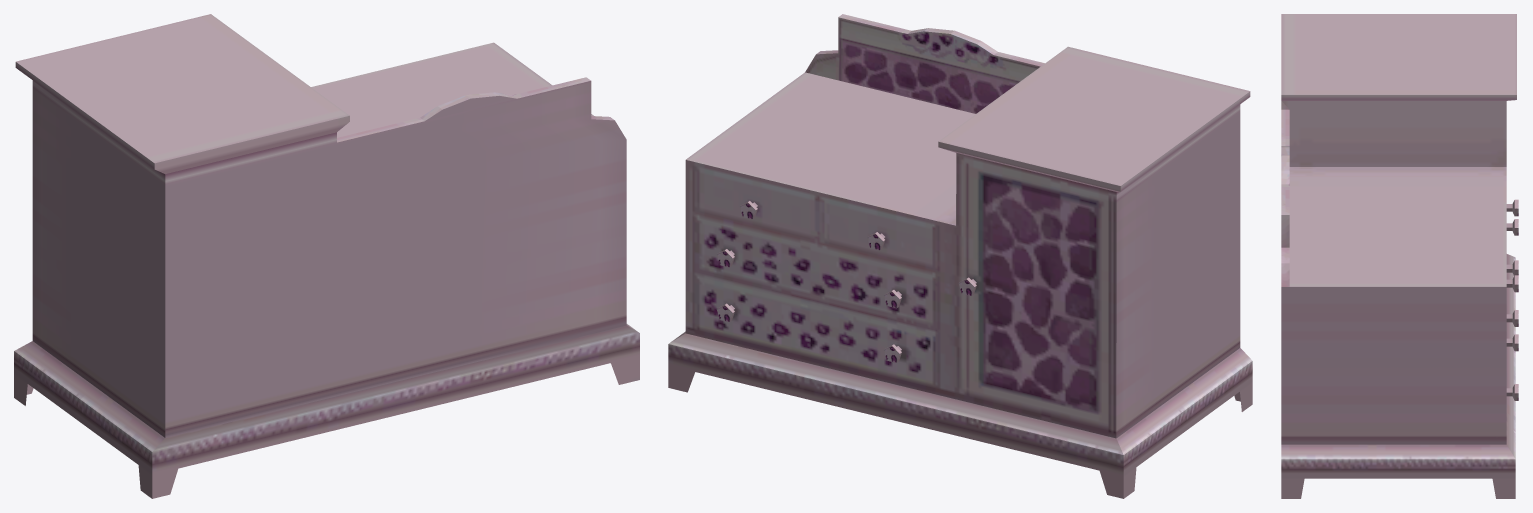
Rendered from furni_0200127_02.FBX.
The picture shows the model from 3 angles, left to right: view 1: azimuth 30°, elevation 25°; view 2: azimuth 150°, elevation 25°; view 3: azimuth 270°, elevation 25°; orthographic projection. The views are drawn at different scales.
Parts seen in each view (by area): view 1: furni_0200127_02; view 2: furni_0200127_02; view 3: furni_0200127_02.
Boxes of the visible parts, x1,y1,x2,y2 form: furni_0200127_02: (14,14,639,498); furni_0200127_02: (668,14,1252,498); furni_0200127_02: (1281,14,1518,498).
Size of the model in its own units: 160 by 105 by 79.45.
